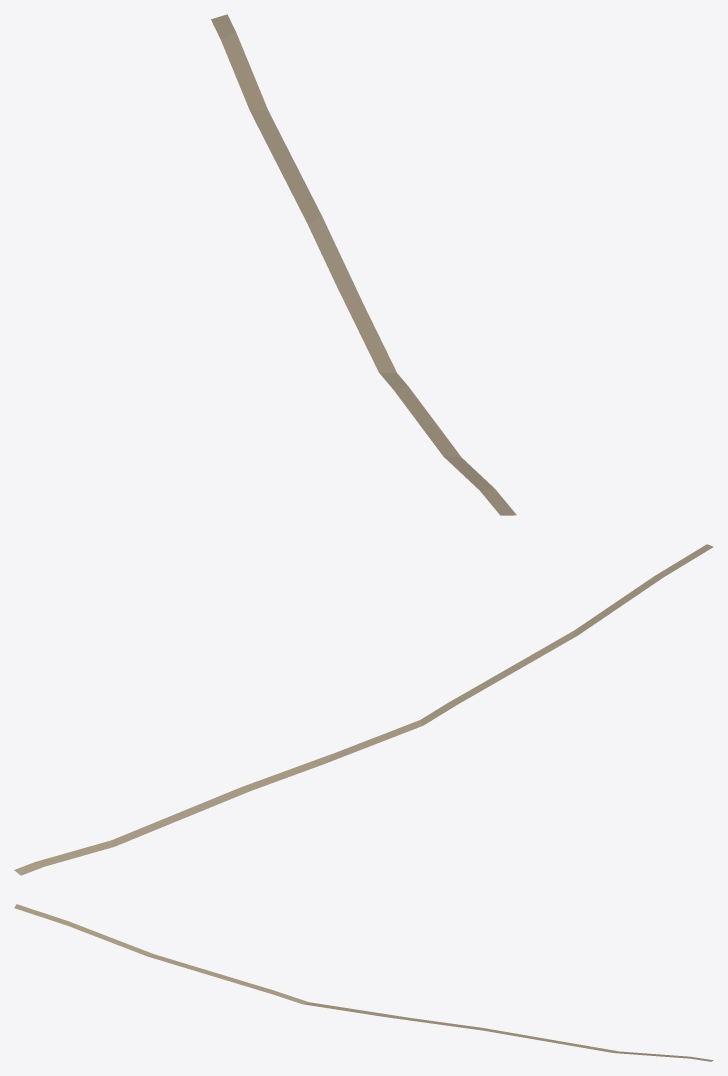
File: farm_-7_-8_track.glb
3 views of the same model, one above another, from view 1: azimuth 30°, elevation 25°; view 2: azimuth 150°, elevation 25°; view 3: azimuth 270°, elevation 25° (orthographic). The views are drawn at different scales.
Visible parts, largest first — view 1: geometry_0; view 2: geometry_0; view 3: geometry_0.
Boxes of the visible parts, left/top/right/bottom form: geometry_0: left=211, top=14, right=516, bottom=515; geometry_0: left=14, top=544, right=713, bottom=875; geometry_0: left=14, top=904, right=713, bottom=1061.
Size of the model in its own units: 93.76 by 26.1 by 270.
